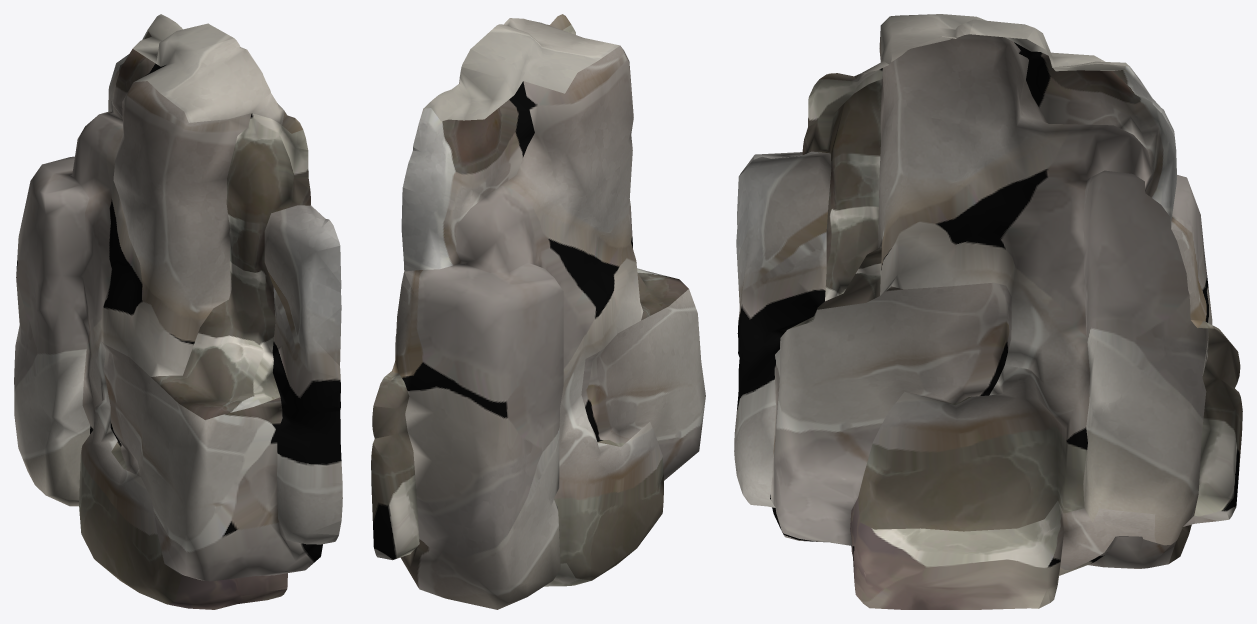
File: cliffrock_south.obj
The picture shows the model from 3 angles, left to right: view 1: azimuth 30°, elevation 25°; view 2: azimuth 150°, elevation 25°; view 3: azimuth 270°, elevation 25°; orthographic projection. The views are drawn at different scales.
Parts seen in each view (by area): view 1: cliffrock:Mesh; view 2: cliffrock:Mesh; view 3: cliffrock:Mesh.
Boxes of the visible parts, <box> form: cliffrock:Mesh: <box>14,14,342,609</box>; cliffrock:Mesh: <box>371,14,705,609</box>; cliffrock:Mesh: <box>734,14,1242,609</box>.
Bounding box in the file's own units: 127 × 498 × 399.
